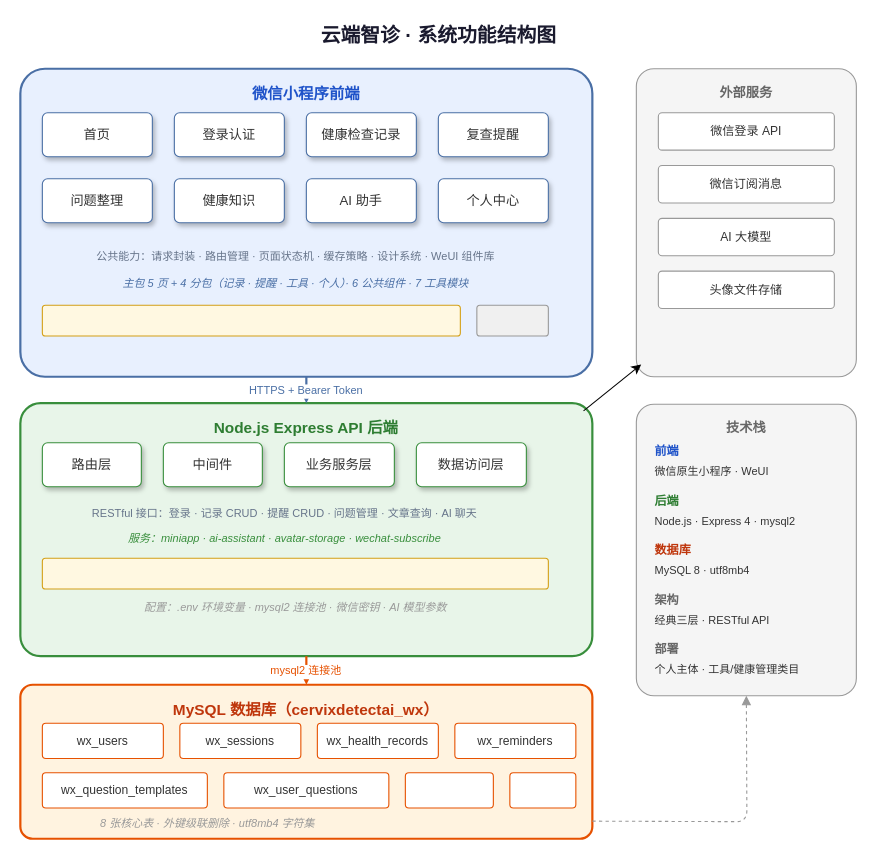
Some shapes in this 876 by 858 pixel diagram are drawn without their labels. Each missing label, with the centre of its shape:
"4 环境分流" goes at pixel 512 320.
"wx_articles" goes at pixel 448 790.
"wx_feedback" goes at pixel 542 790.
"合规防护：隐私协议 · 服务边界声明 · 登录态守卫 · 游客模式" goes at pixel 250 320.
"安全：Bearer Token 鉴权 · 参数化 SQL · user_id 数据隔离 · 合规词拦截（10 个禁用词）· 头像格式校验" goes at pixel 294 573.
